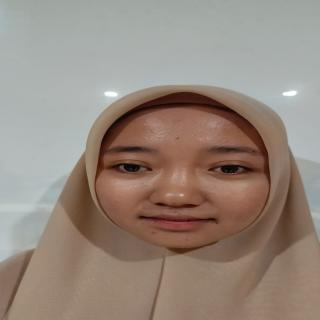Netral: (88, 95, 281, 256)
